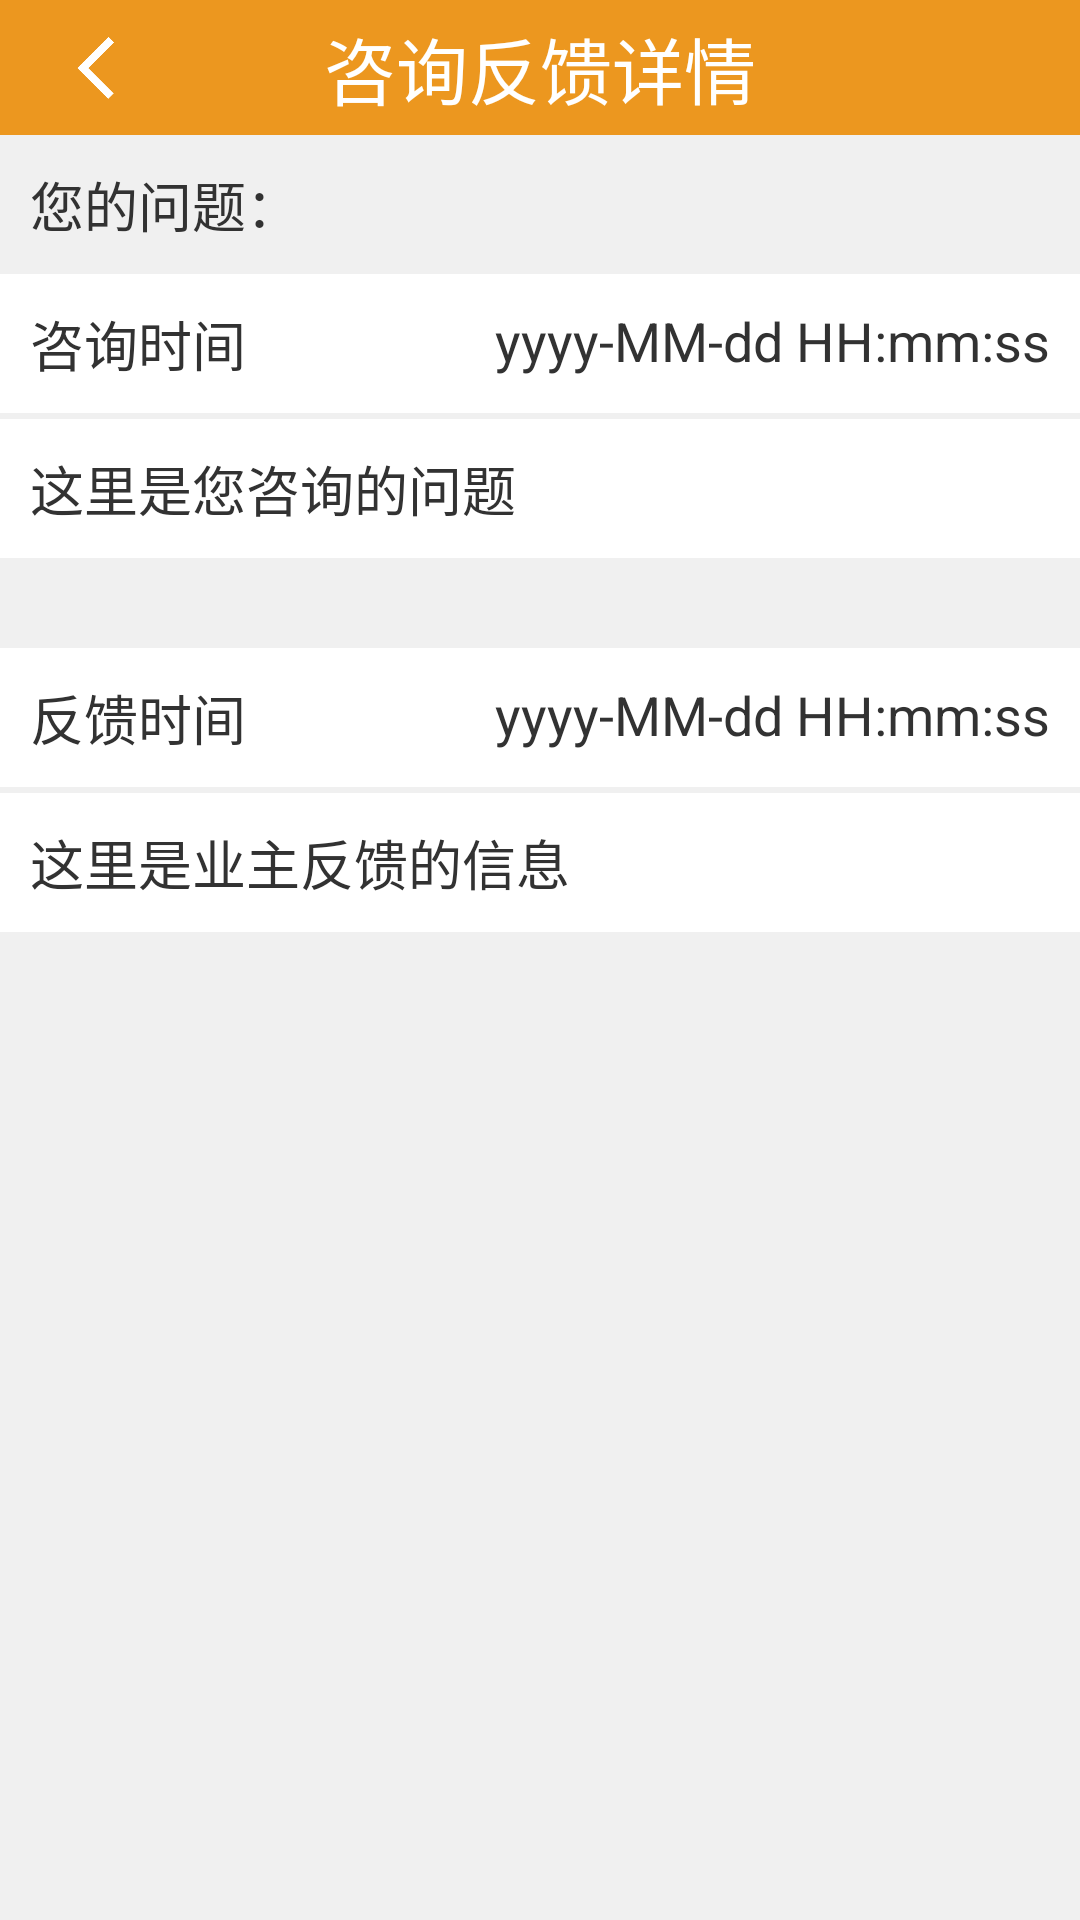

Point at icon controls on the screen. Image size 1080 x 1920, points as point (x, y).
back: point (96, 68)
